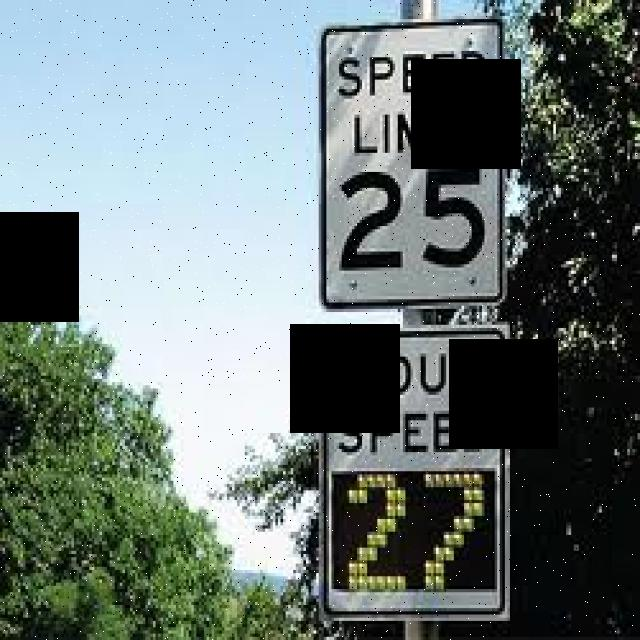regulatory: (318, 326, 512, 626), (321, 16, 503, 309)
